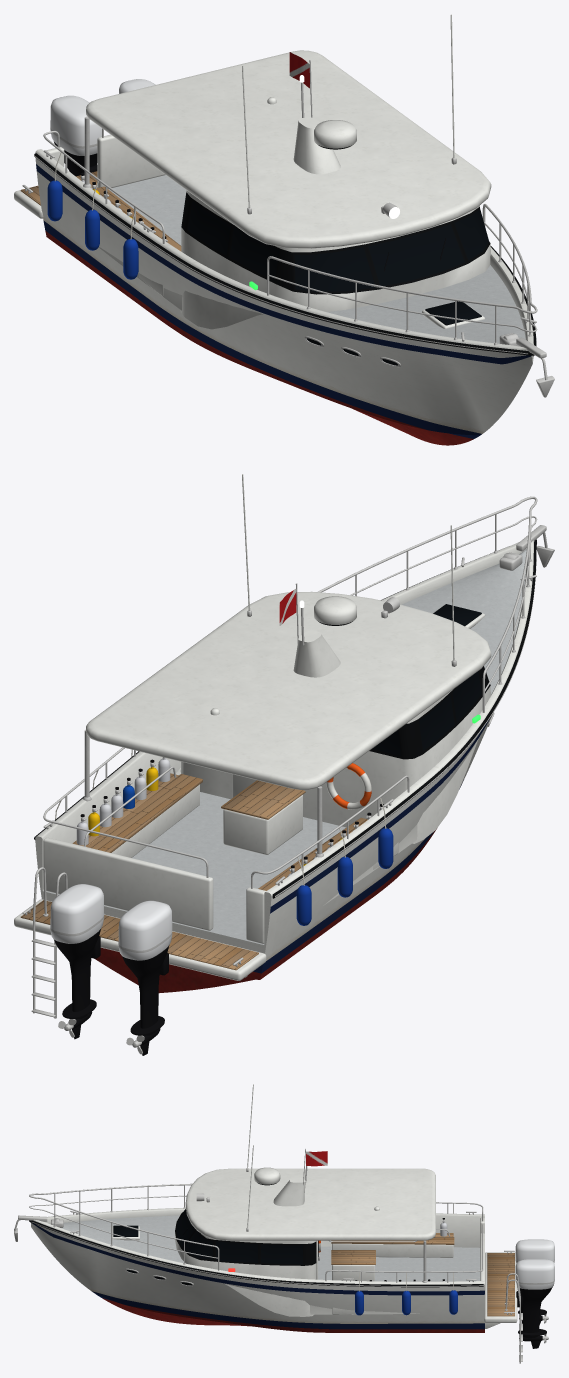
File: diveboat.glb
3 renders of one model, top to bottom at view 1: azimuth 30°, elevation 25°; view 2: azimuth 150°, elevation 25°; view 3: azimuth 270°, elevation 25°, orthographic. The views are drawn at different scales.
Parts seen in each view (by area): view 1: DiveBoat; view 2: DiveBoat; view 3: DiveBoat.
Boxes of the visible parts, x1,y1,x2,y2 form: DiveBoat: (14,14,554,445); DiveBoat: (14,474,554,1055); DiveBoat: (14,1084,554,1363).
Size of the model in its own units: 4.71 by 6.3 by 13.78.
Materials: 21 (8 with a texture image).
